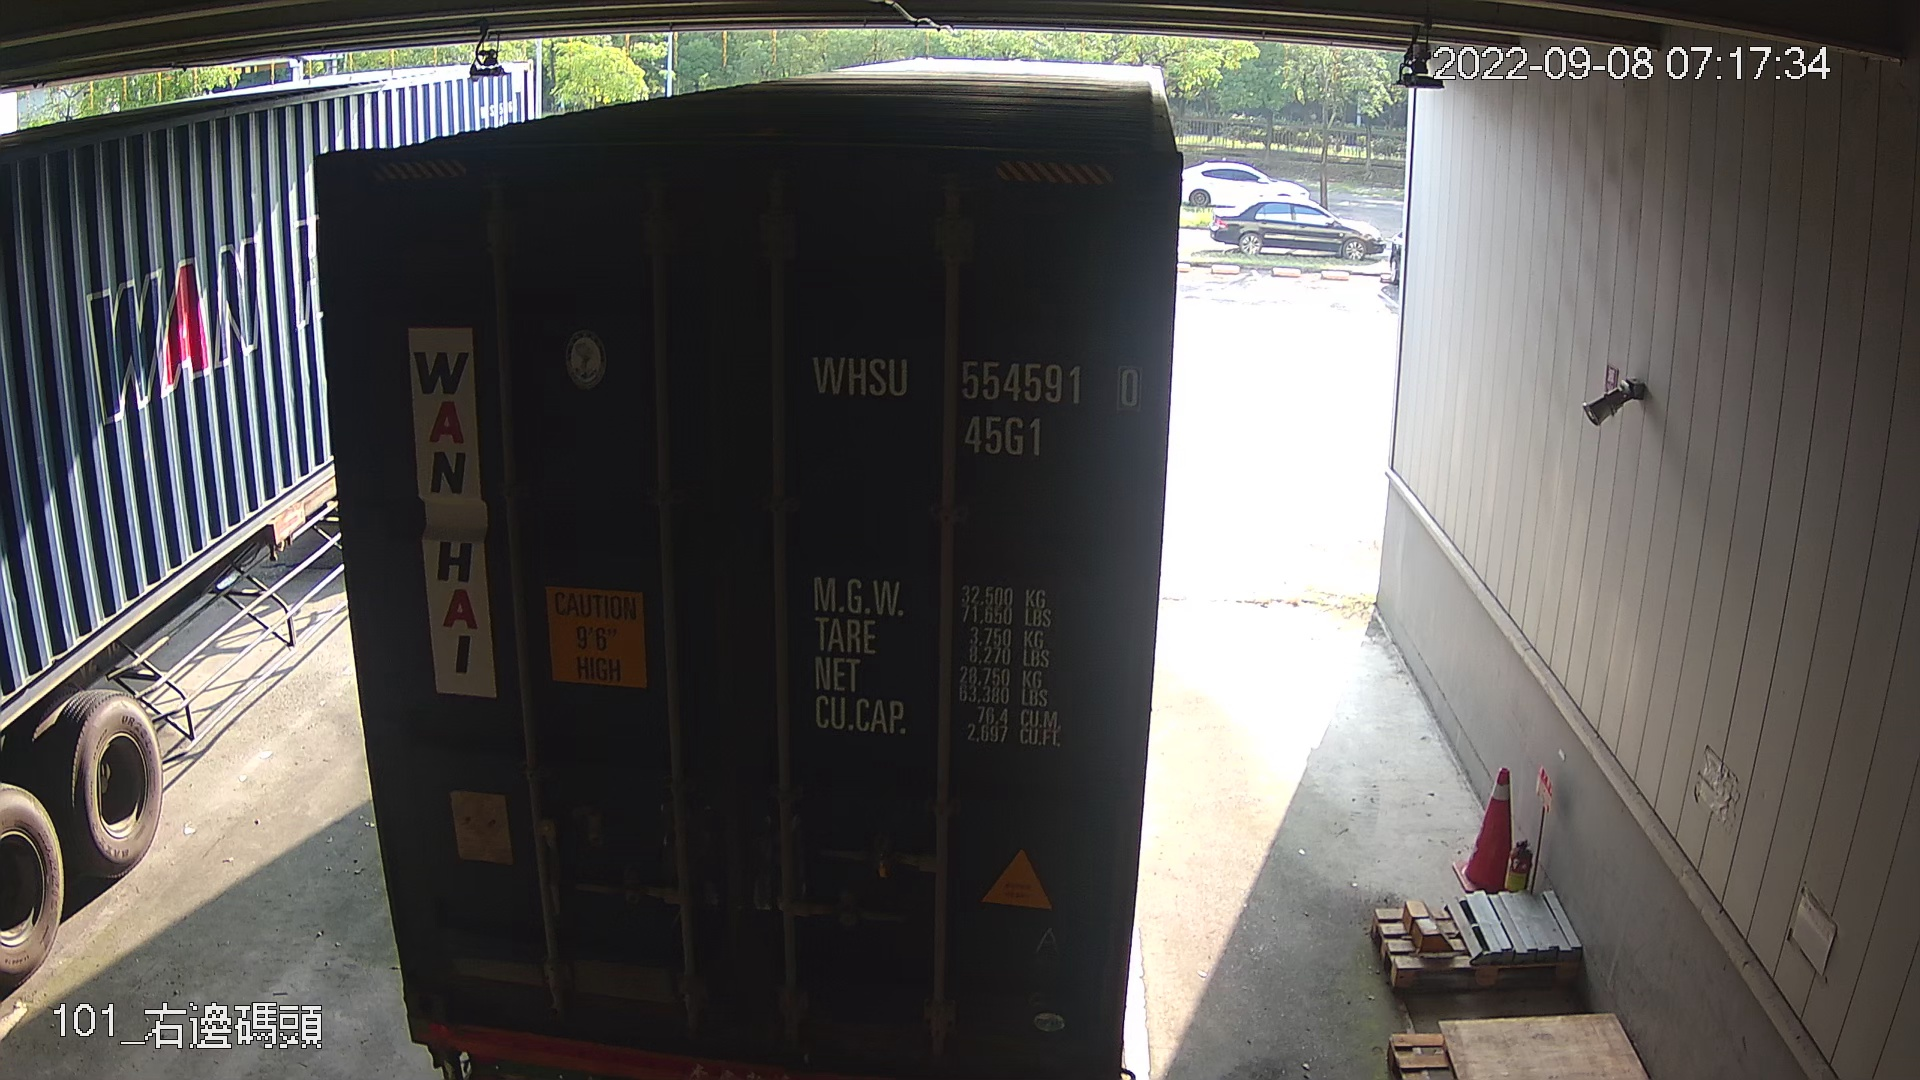container: (800, 335, 1149, 469)
